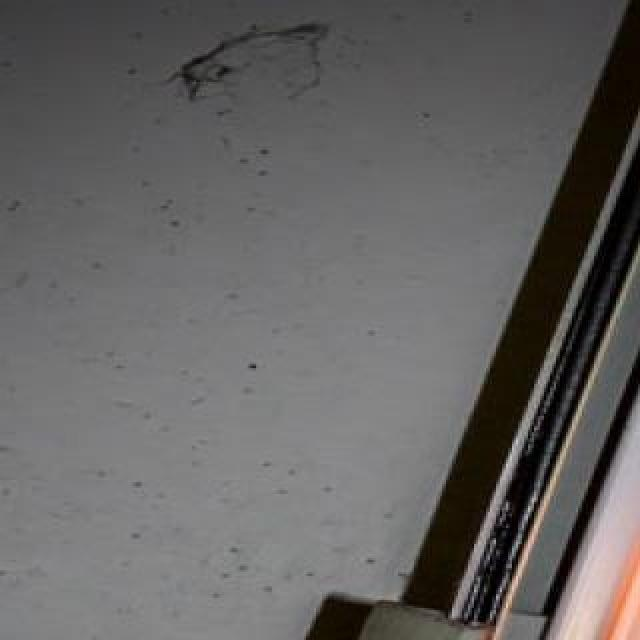fluorescent tube: (582, 0, 640, 640)
